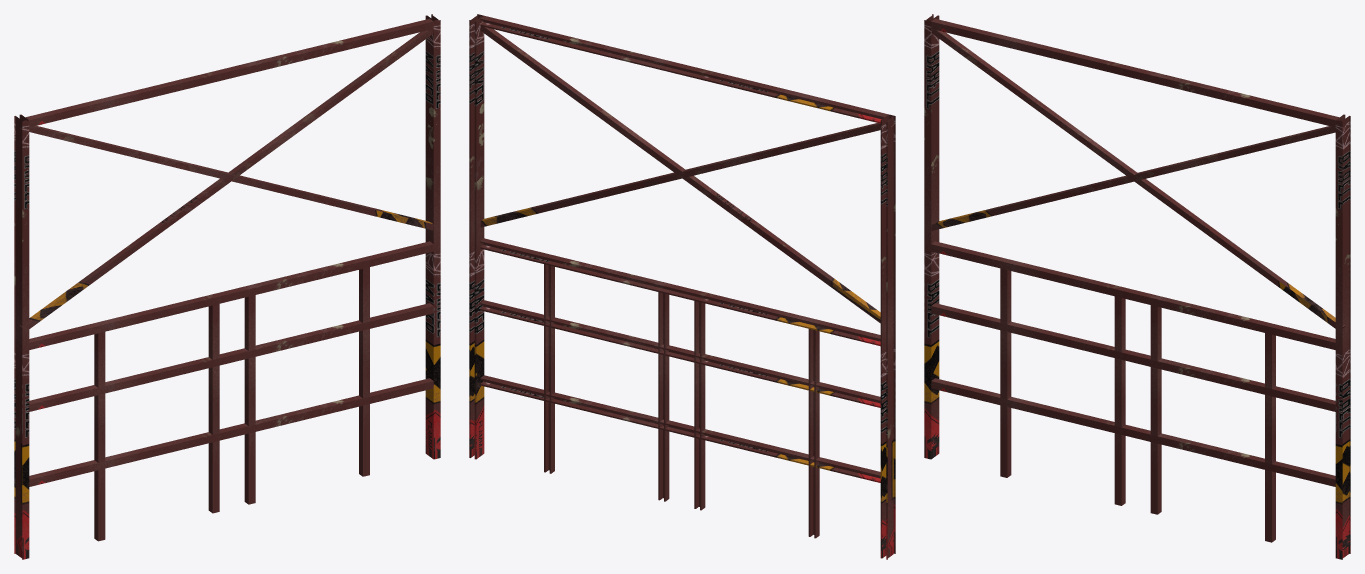
The model's file is CS_formwork_system_large_05.FBX.
The picture shows the model from 3 angles, left to right: view 1: azimuth 30°, elevation 25°; view 2: azimuth 150°, elevation 25°; view 3: azimuth 330°, elevation 25°; orthographic projection.
Parts seen in each view (by area): view 1: SM_formwork_system_large_05; view 2: SM_formwork_system_large_05; view 3: SM_formwork_system_large_05.
Boxes of the visible parts, left/top/right/bottom form: SM_formwork_system_large_05: left=14, top=14, right=440, bottom=559; SM_formwork_system_large_05: left=469, top=14, right=895, bottom=559; SM_formwork_system_large_05: left=924, top=14, right=1350, bottom=559.
Size of the model in its own units: 600 by 20 by 600.
